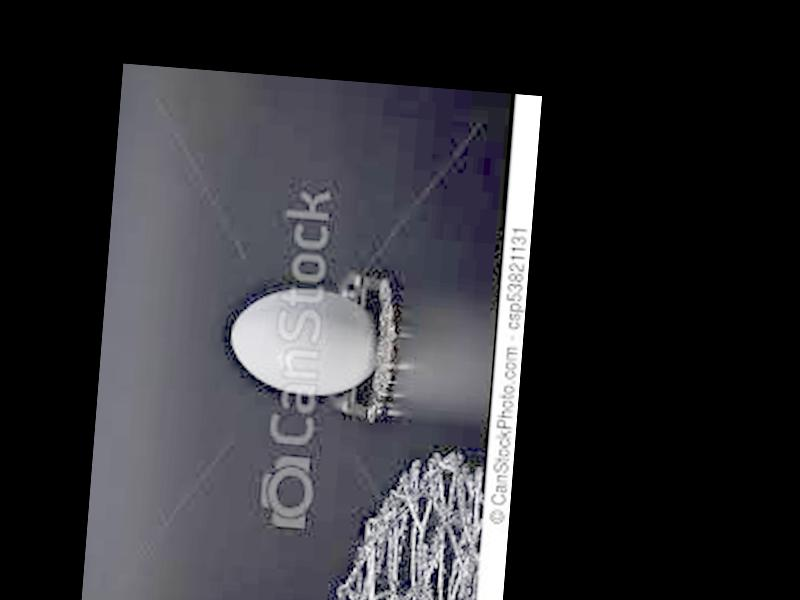Eggs: (227, 283, 382, 400)
